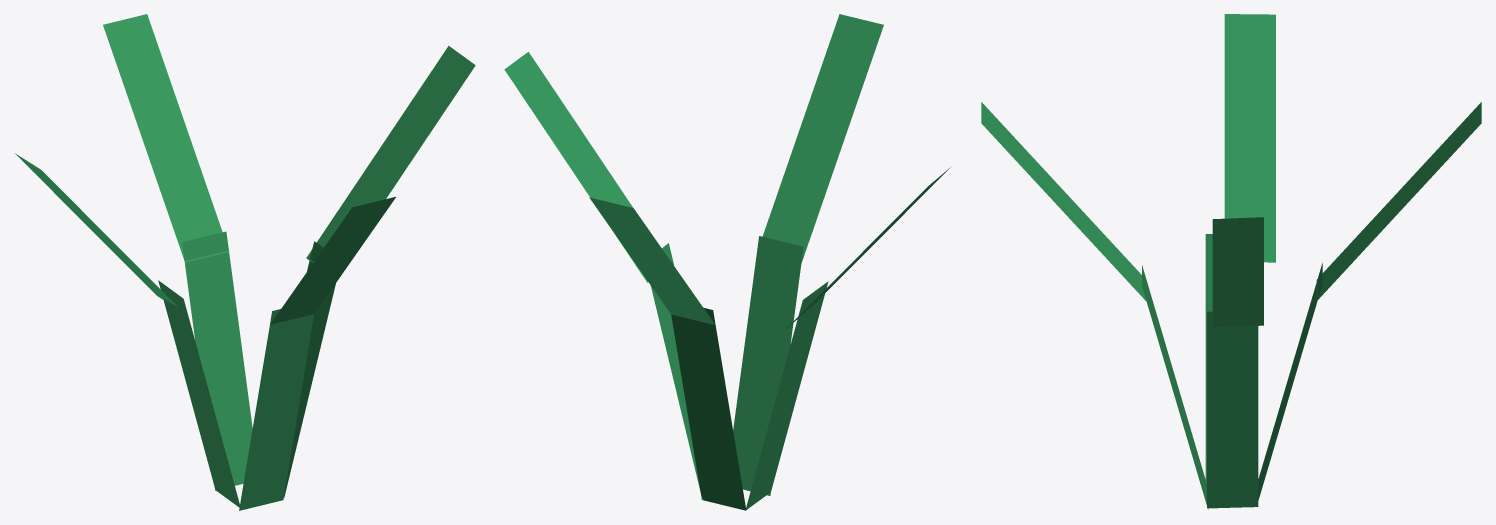
File: TallGrass.obj
The picture shows the model from 3 angles, left to right: view 1: azimuth 30°, elevation 25°; view 2: azimuth 150°, elevation 25°; view 3: azimuth 270°, elevation 25°; orthographic projection.
Parts seen in each view (by area): view 1: cube; view 2: cube; view 3: cube.
Boxes of the visible parts, box(x1,y1,x2,y2) form: cube: box(15, 14, 475, 510); cube: box(504, 14, 950, 510); cube: box(981, 14, 1481, 509).
Size of the model in its own units: 1.21 by 1.04 by 1.22.
1 material, 1 textured.
